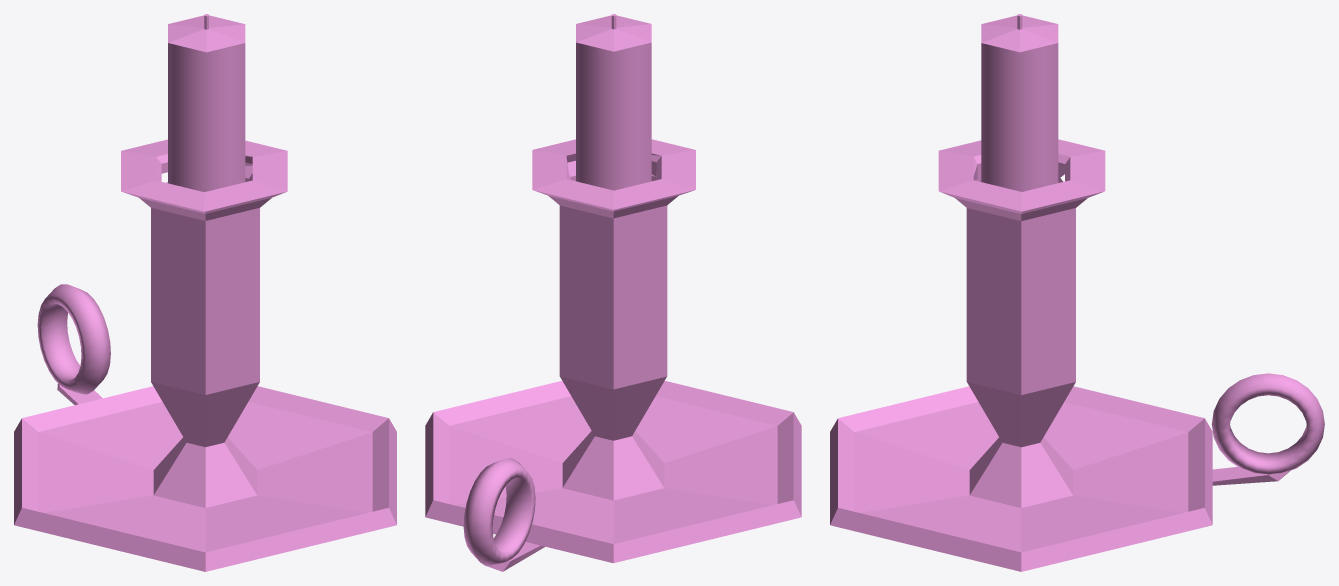
Rendered from vela.glb.
3 views of the same model, side by side, from view 1: azimuth 30°, elevation 25°; view 2: azimuth 150°, elevation 25°; view 3: azimuth 270°, elevation 25° (orthographic).
Visible parts, largest first — view 1: Cylinder001; view 2: Cylinder001; view 3: Cylinder001.
Boxes of the visible parts, x1,y1,x2,y2 form: Cylinder001: (14,14,396,571); Cylinder001: (425,14,801,571); Cylinder001: (830,14,1324,571).
Size of the model in its own units: 0.0982 by 0.1233 by 0.11.
